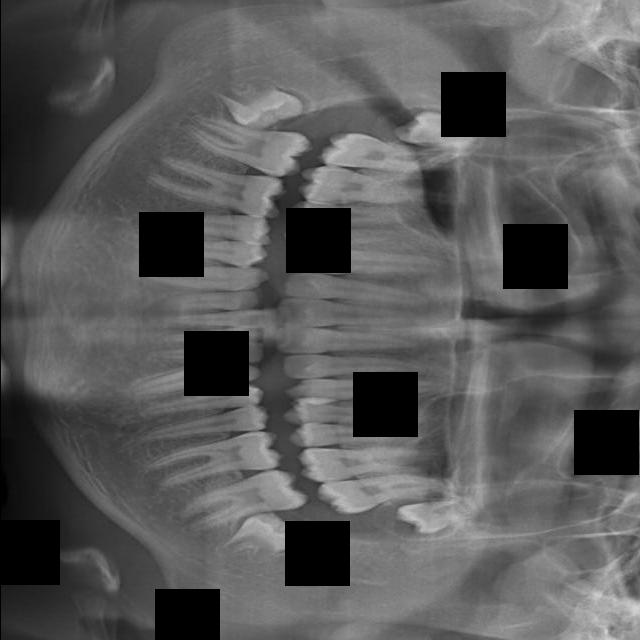3M ESPE Implant: (387, 105, 500, 151)
AGS Medikal Implant: (165, 463, 310, 542)
AMerOss Implant: (137, 426, 287, 494)
Amalgam filling: (311, 127, 461, 176)
Anthogyr Implant: (129, 404, 273, 448)
Bicon Implant: (135, 380, 265, 422)
BioHorizons Implant: (123, 356, 265, 401)
BioLife Implant: (143, 341, 265, 364)
Biomet 3i Implant: (153, 327, 258, 344)
Blue Sky Bio Implant: (146, 308, 268, 327)
Camlog Implant: (156, 291, 262, 312)
Caries: (281, 354, 449, 378)
Composite filling: (127, 259, 271, 293)
Cowellmedi Implant: (132, 228, 271, 271)
Crown: (136, 198, 279, 247)
DENTSPLY Implant: (295, 163, 432, 211)
Dentatus Implant: (135, 148, 293, 223)
Dentis Implant: (172, 108, 317, 182)
Dentium Implant: (210, 74, 305, 130)
Euroteknika Implant: (285, 200, 438, 231)
Filling: (279, 226, 427, 248)
Frontier Implant: (284, 247, 455, 275)
Hiossen Implant: (281, 372, 462, 402)
Implant: (271, 294, 422, 340)
Implant Direct: (280, 268, 439, 318)
Keystone Dental Implant: (273, 327, 428, 356)
MIS Implant: (278, 397, 442, 426)
Mandible: (283, 419, 428, 448)
Maxilla: (290, 444, 431, 483)
Megagen Implant: (312, 468, 455, 519)
Neodent Implant: (390, 492, 487, 542)
Neoss Implant: (249, 552, 250, 553)
